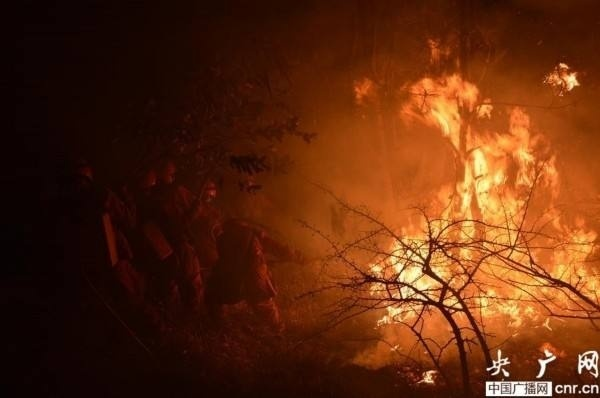fire: (376, 49, 598, 344)
